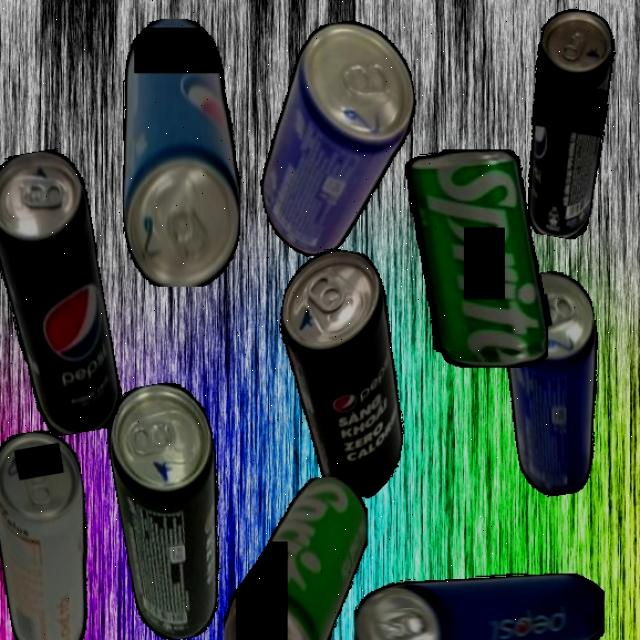debris: (236, 12, 438, 262), (252, 243, 433, 502), (98, 376, 246, 640), (0, 145, 127, 440), (488, 266, 624, 500), (122, 18, 240, 286), (403, 150, 548, 368), (507, 5, 625, 242), (0, 425, 112, 640), (222, 476, 368, 640), (354, 572, 604, 640)
